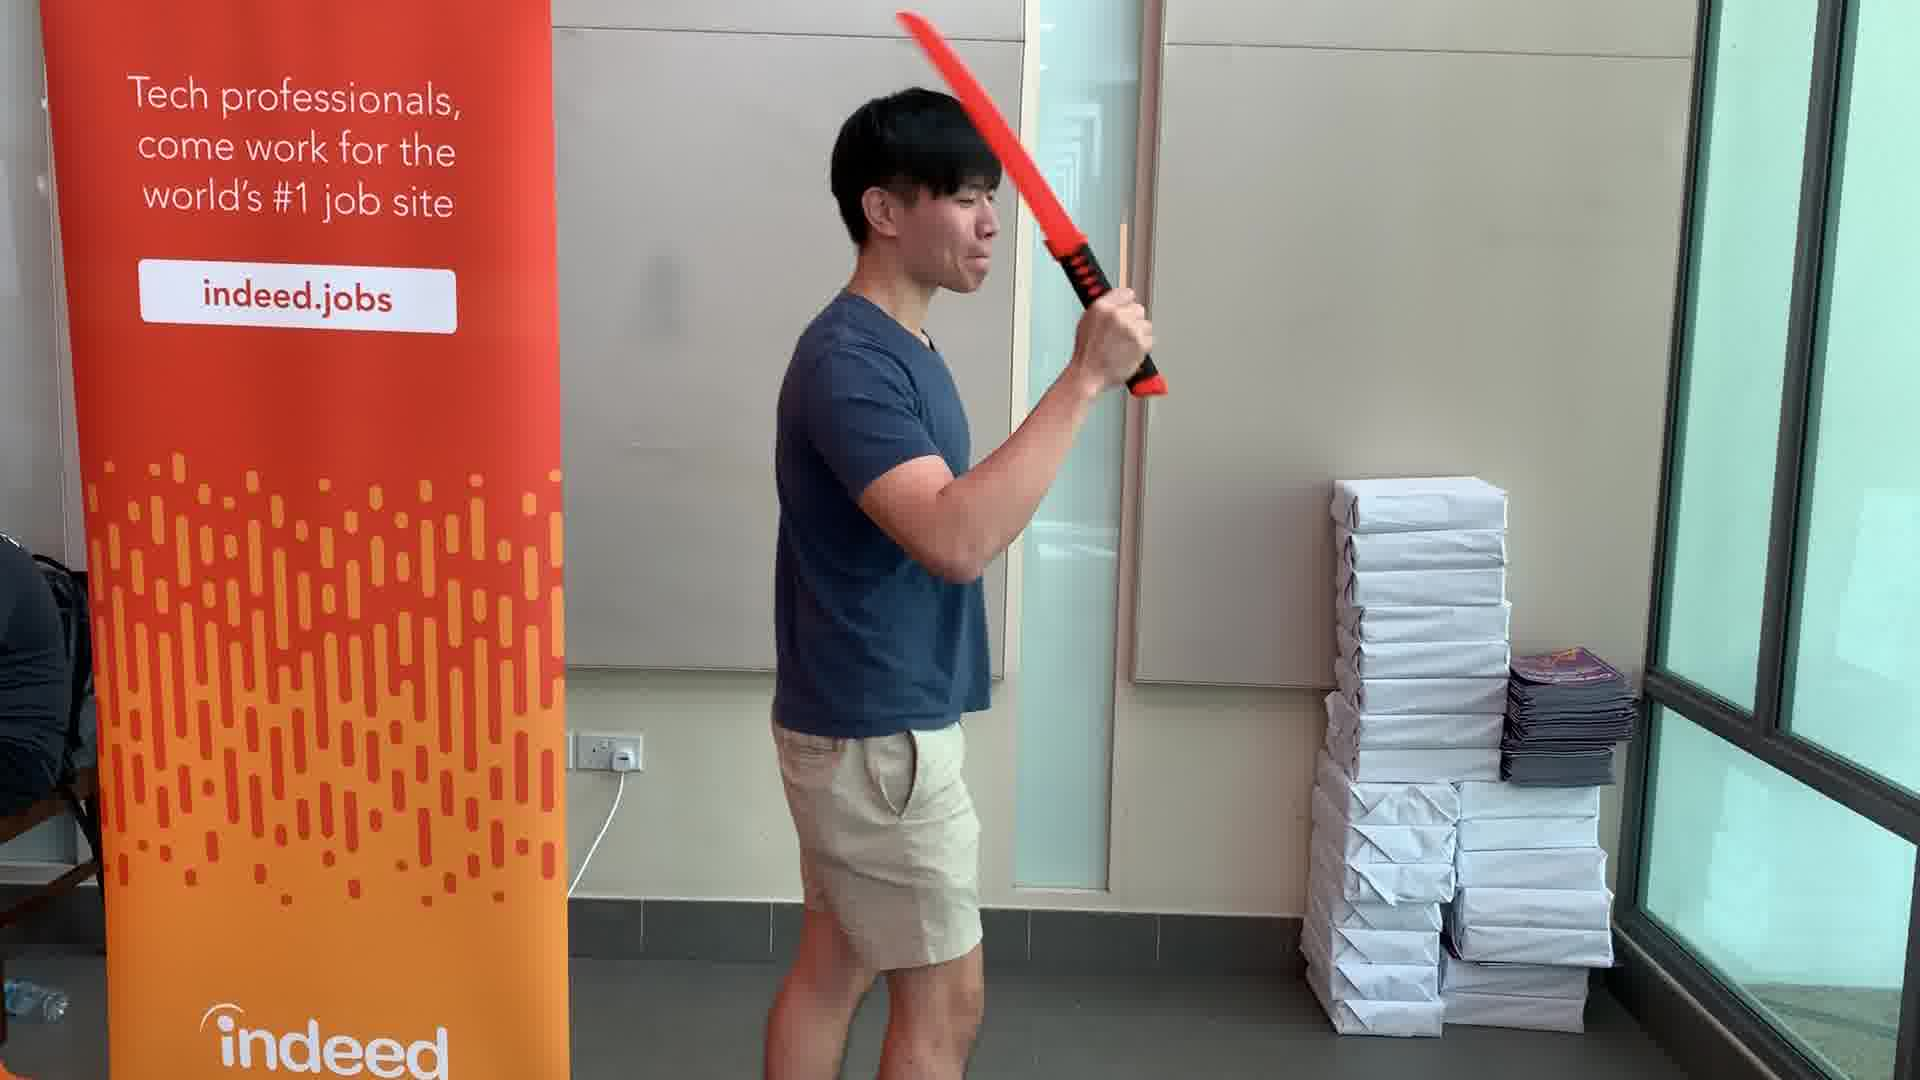knife: (898, 7, 1182, 405)
